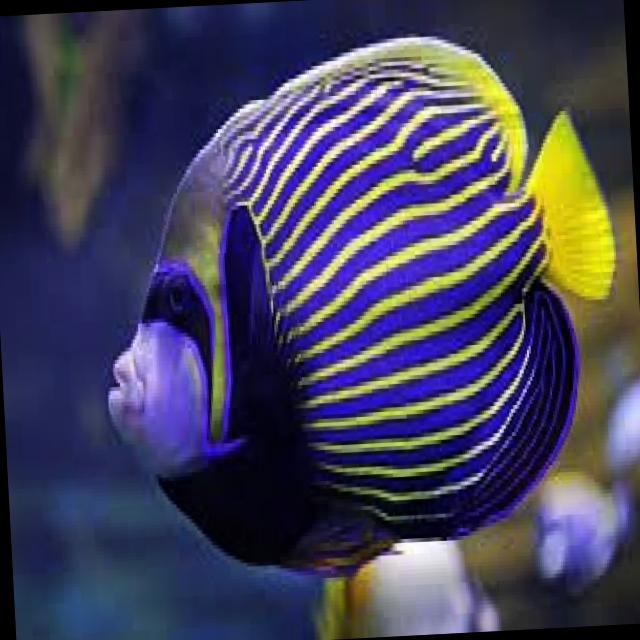AngelFish: (89, 31, 630, 592)
